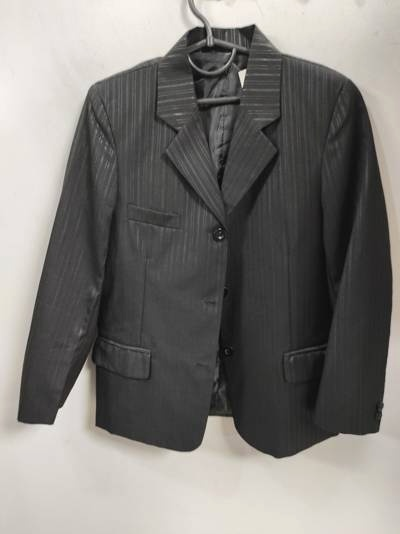Blazer: (14, 24, 389, 480)
